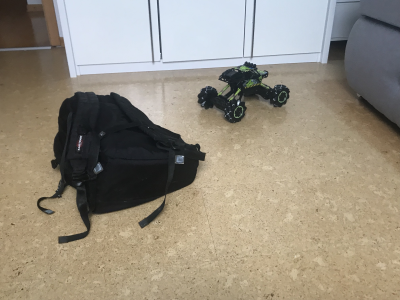remote control car: (195, 58, 292, 123)
